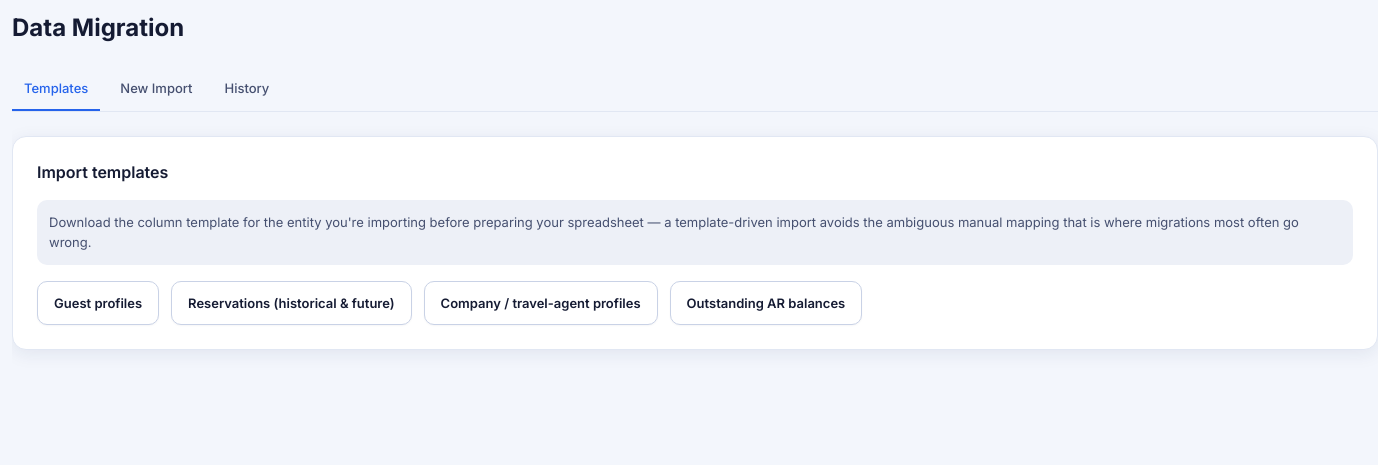
it: <DataMigrationScreen> › switches tabs on click
This screenshot has width=1378, height=465.
Click the tab "New Import": (156,89) [108,67,204,111]
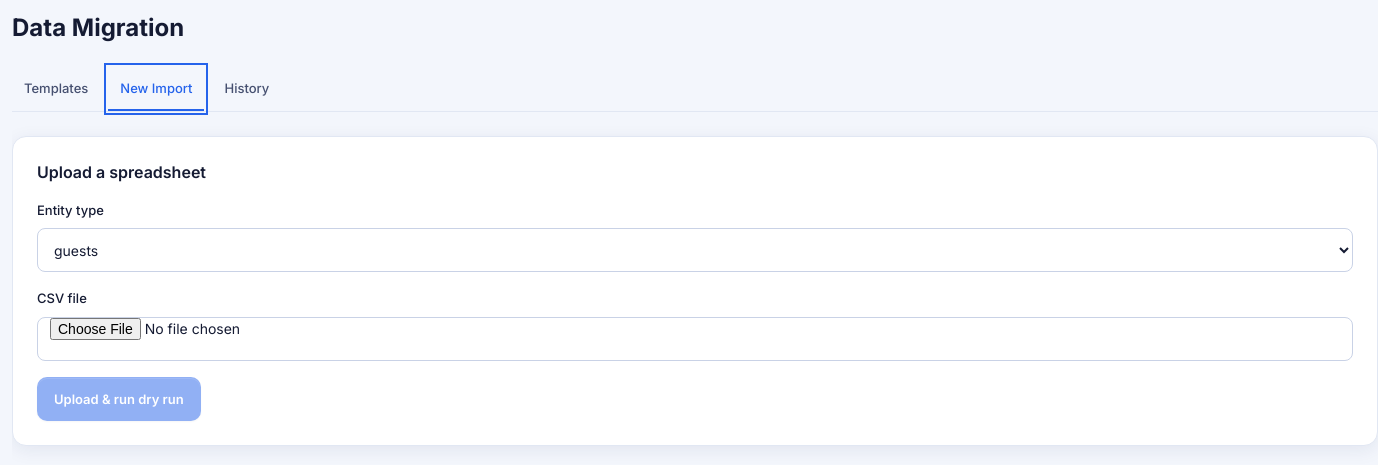
expect the button "Upload & run dry run" is shown: met, box [37,377,201,421]
